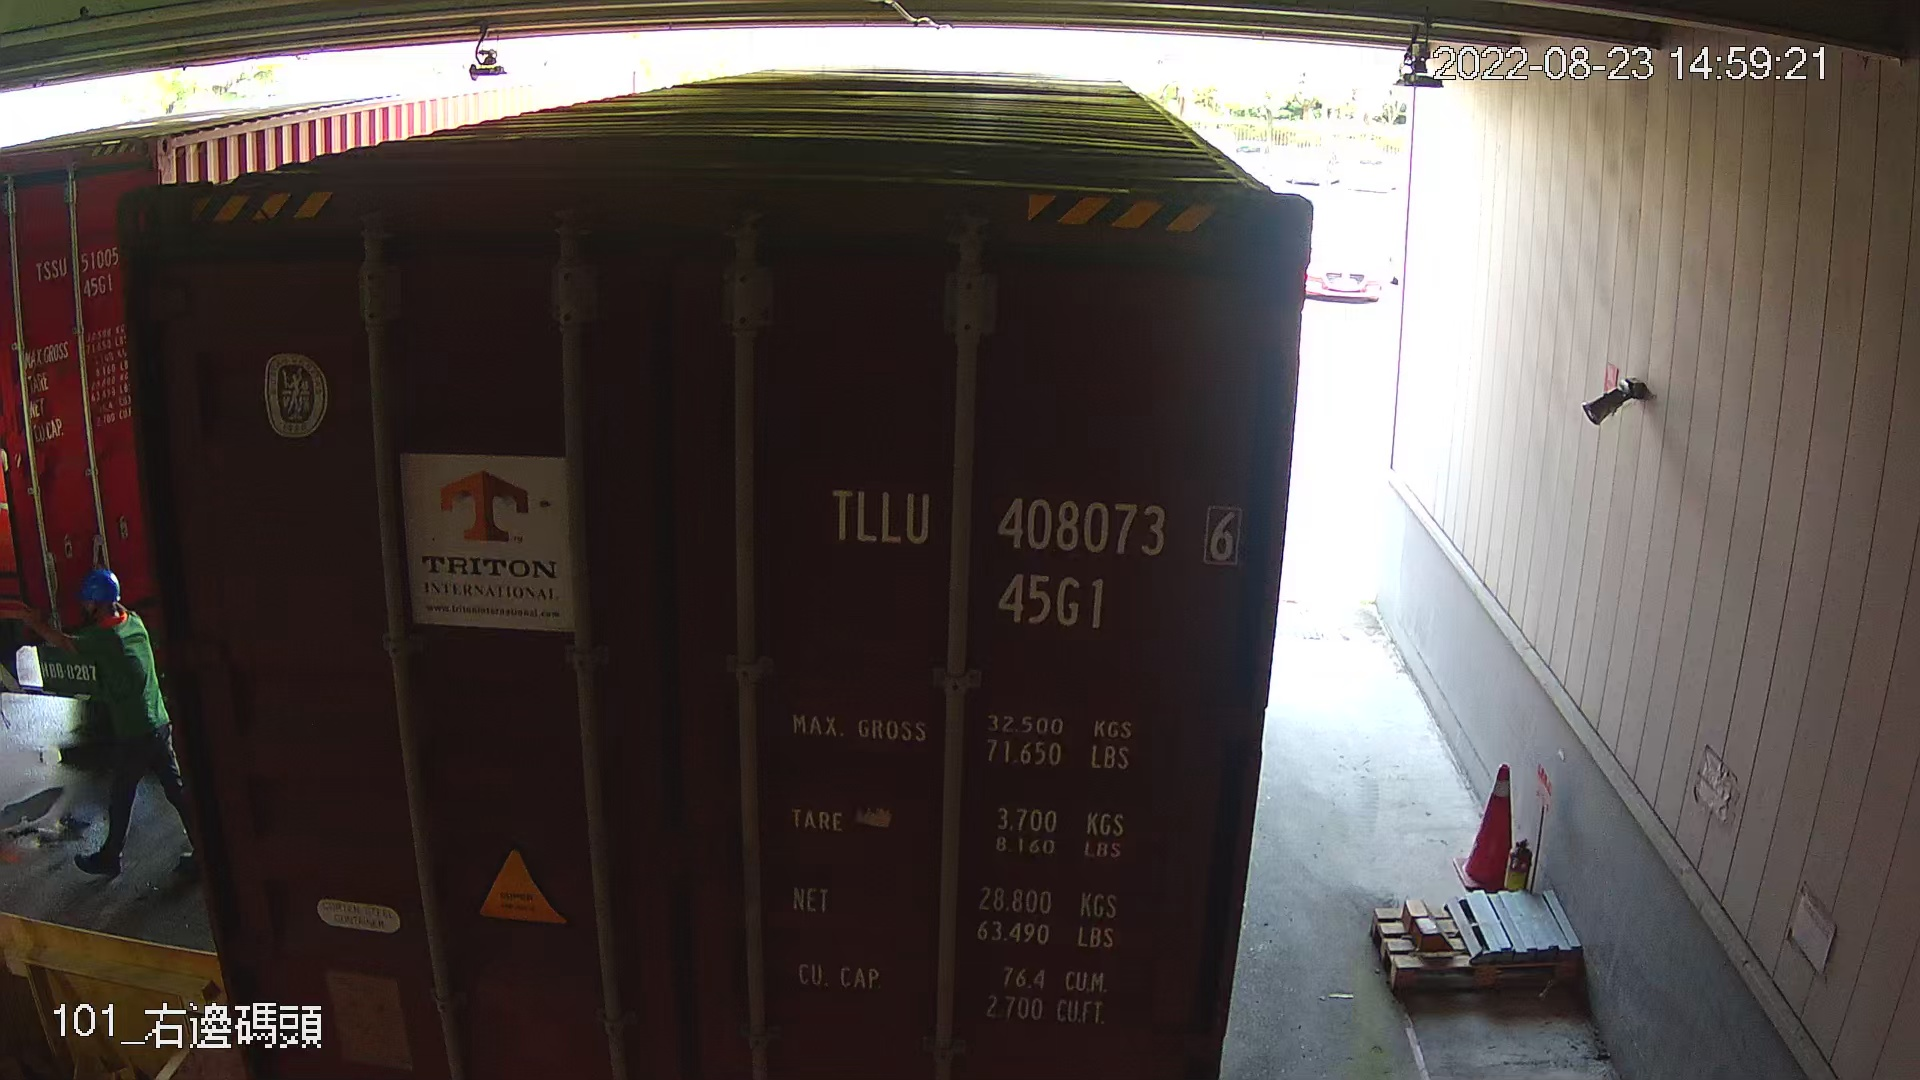container: (800, 454, 1255, 641)
